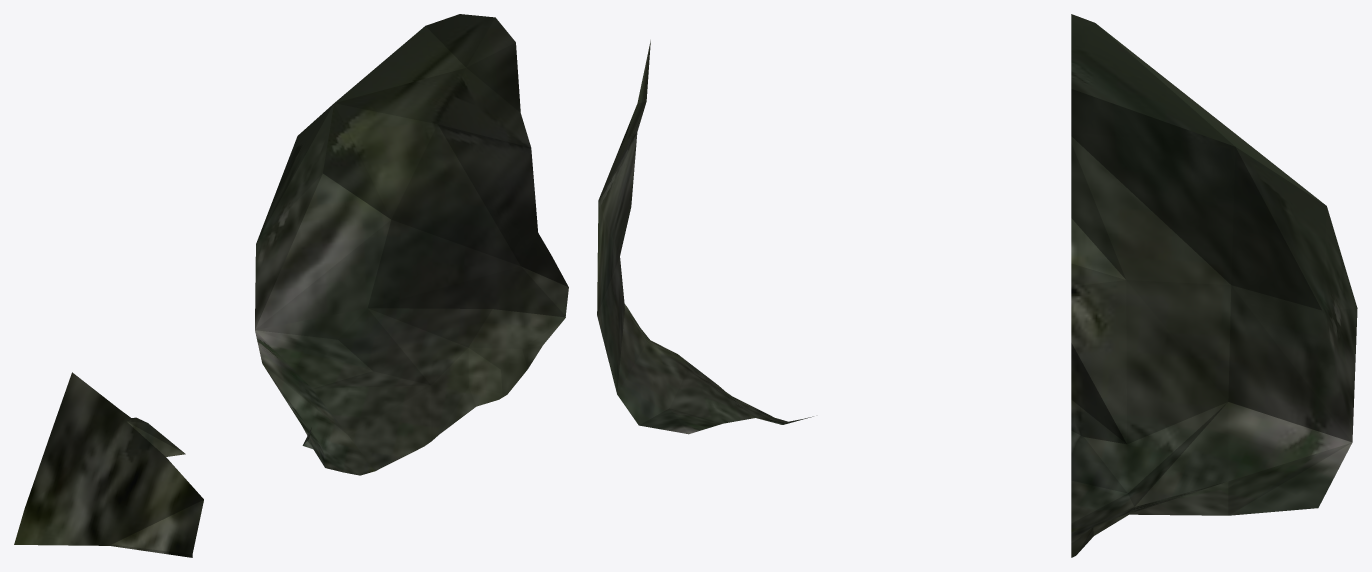
3 views of the same model, side by side, from view 1: azimuth 30°, elevation 25°; view 2: azimuth 150°, elevation 25°; view 3: azimuth 270°, elevation 25° (orthographic). The views are drawn at different scales.
Size of the model in its own units: 2.54 by 2.34 by 0.9837.
Materials: 2 (2 with a texture image).
